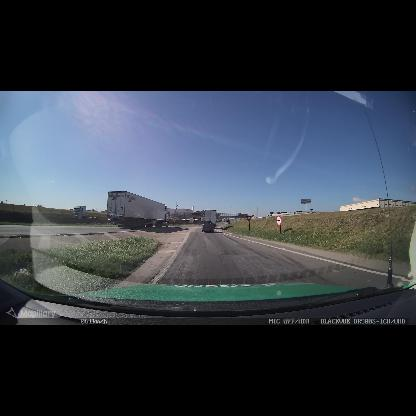R-2: (245, 216, 252, 222)
R-24a: (276, 216, 282, 226)
